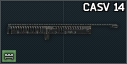M14 Vltor CASV-14 rail system: (0, 0, 127, 64)
